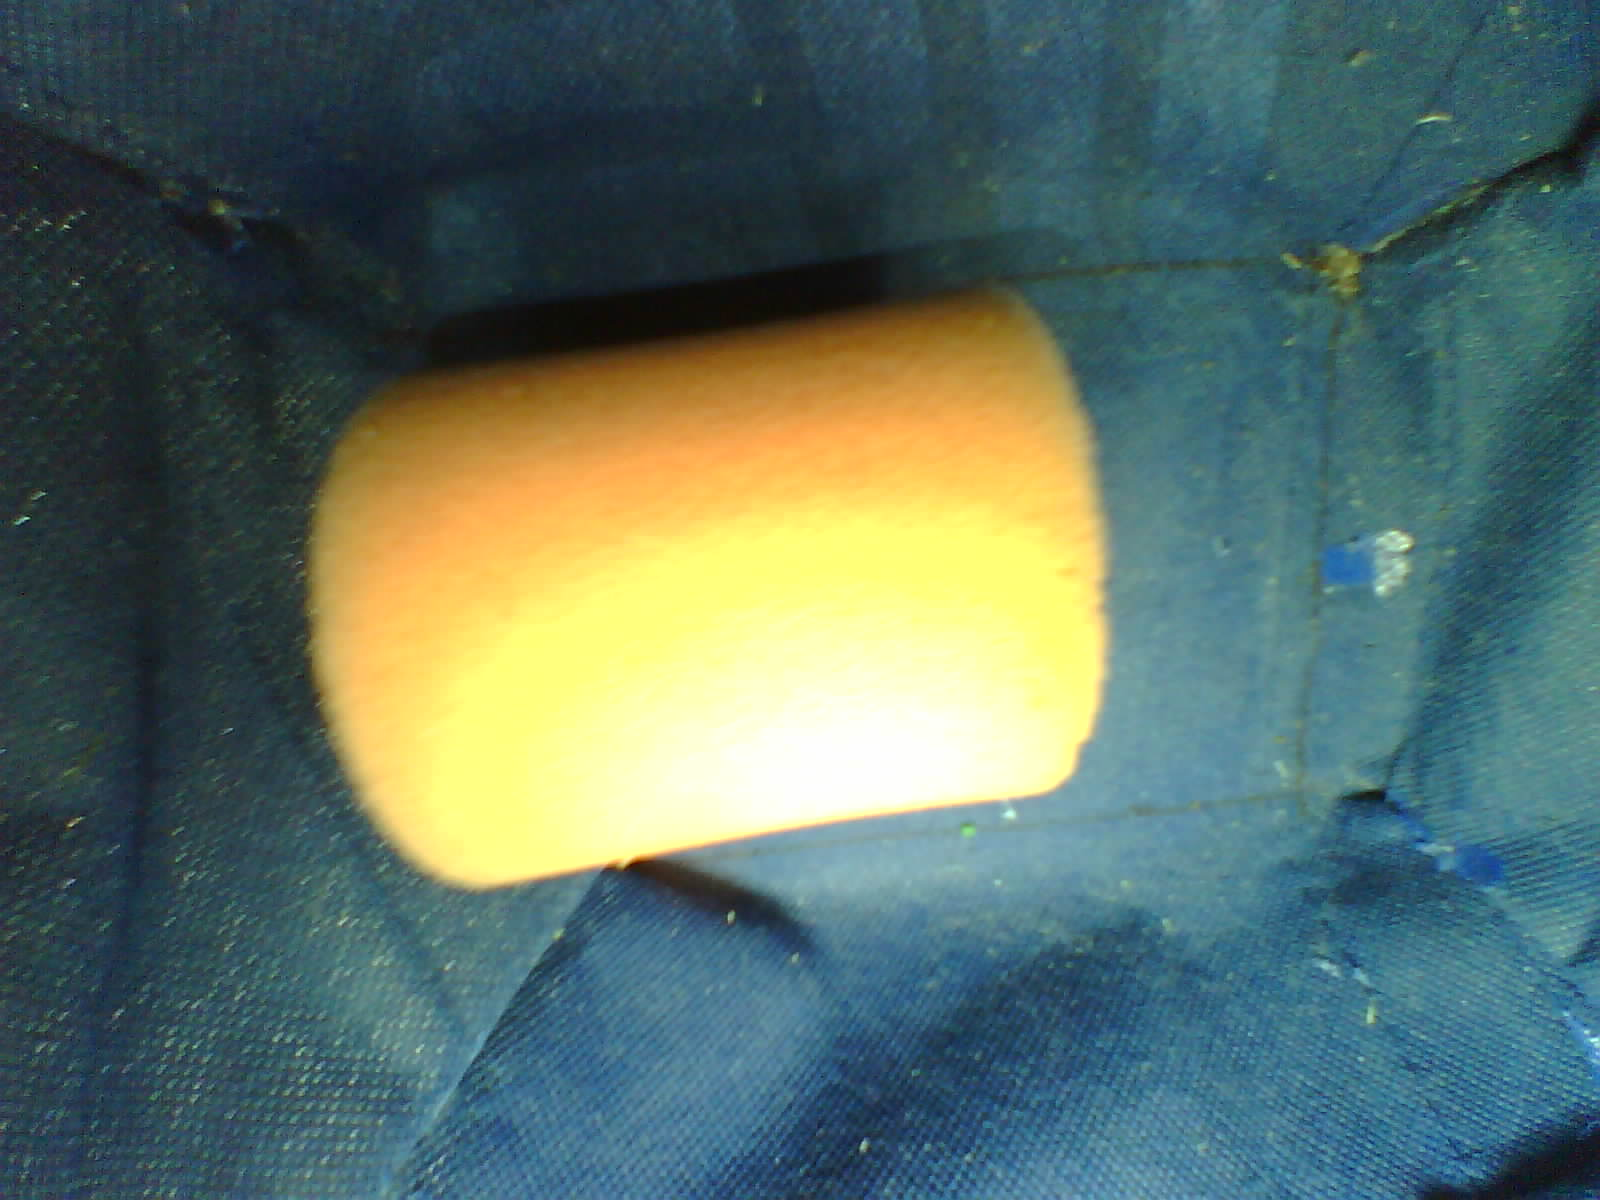cylinder-soft: (304, 275, 1144, 932)
